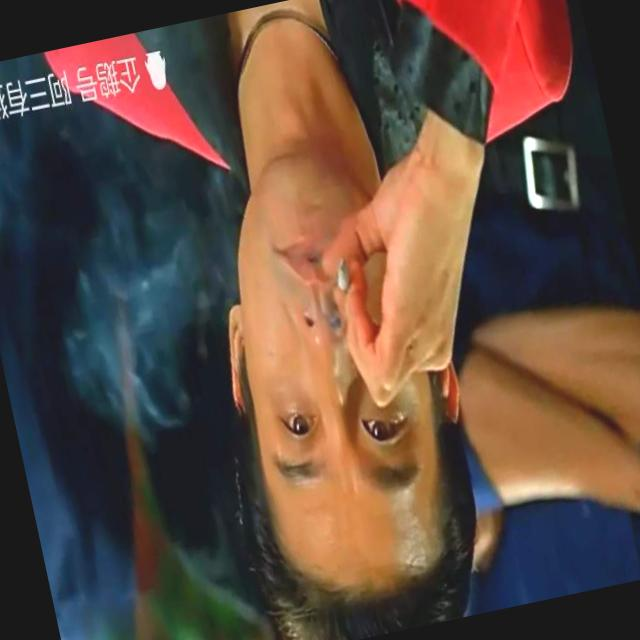cigarette: (332, 257, 353, 296)
